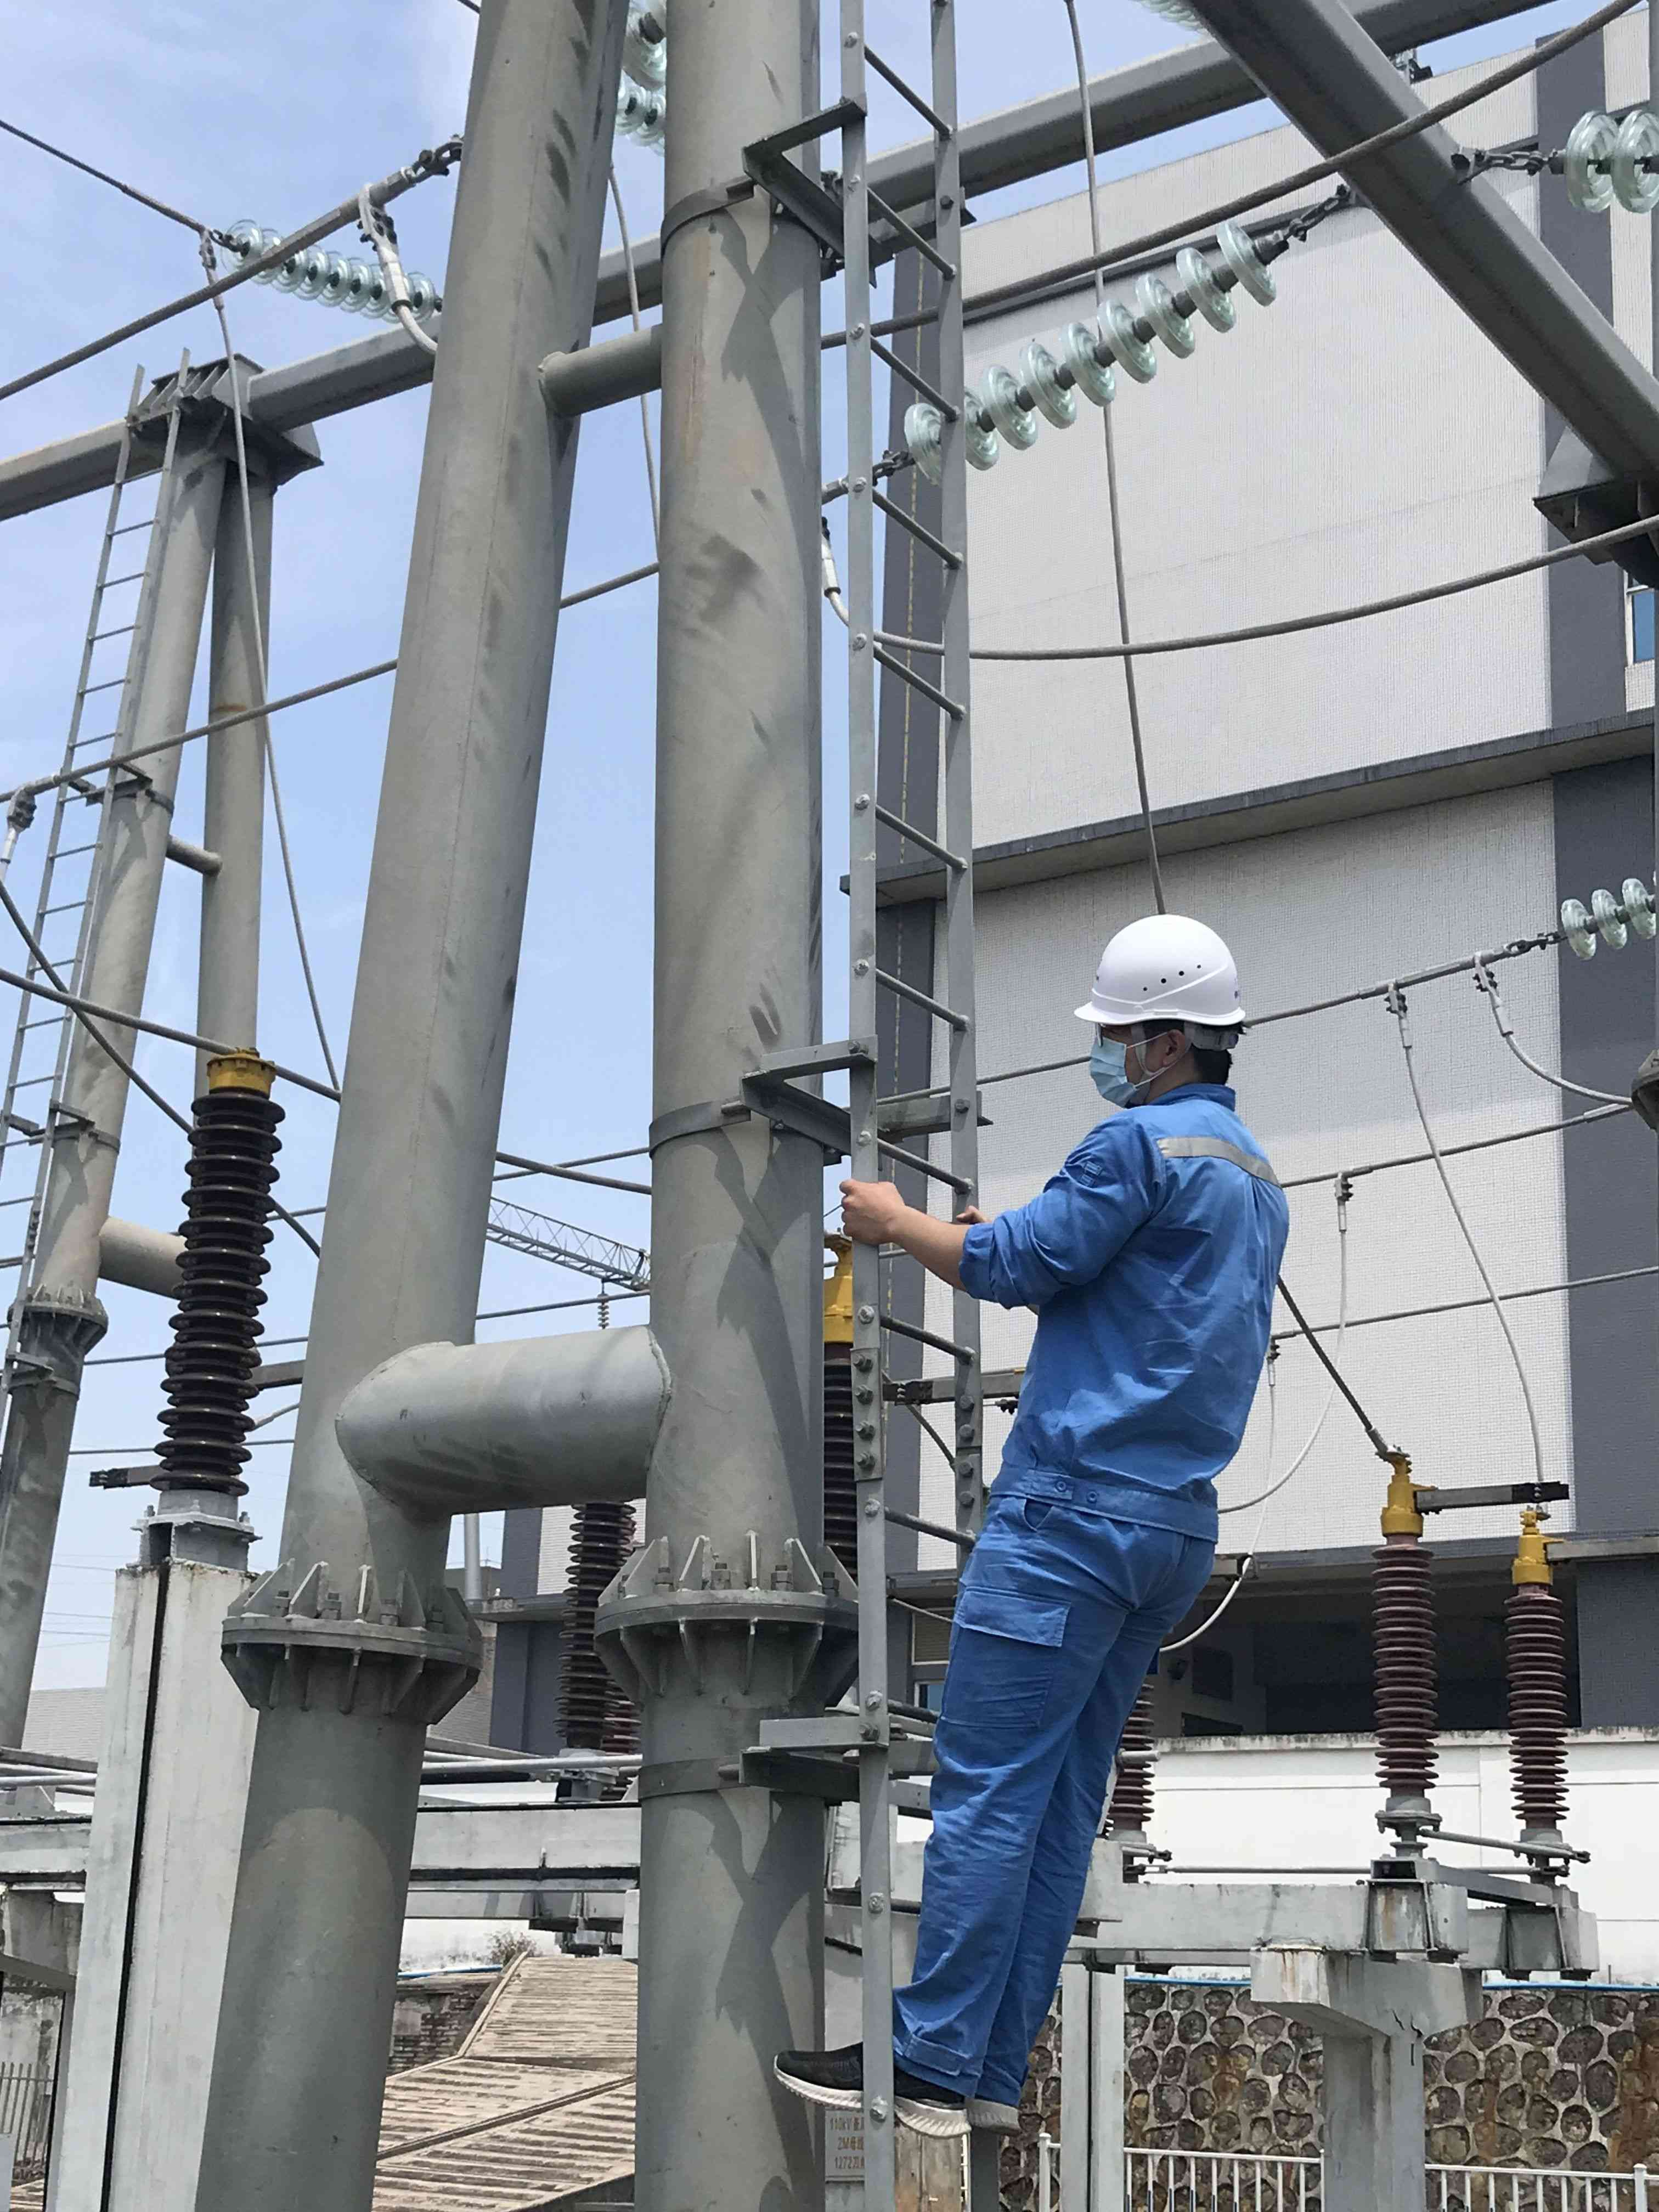downsuit: (887, 1540, 1222, 2094)
upsuit: (953, 1080, 1304, 1515)
wrongtop: (843, 1169, 1014, 1298)
